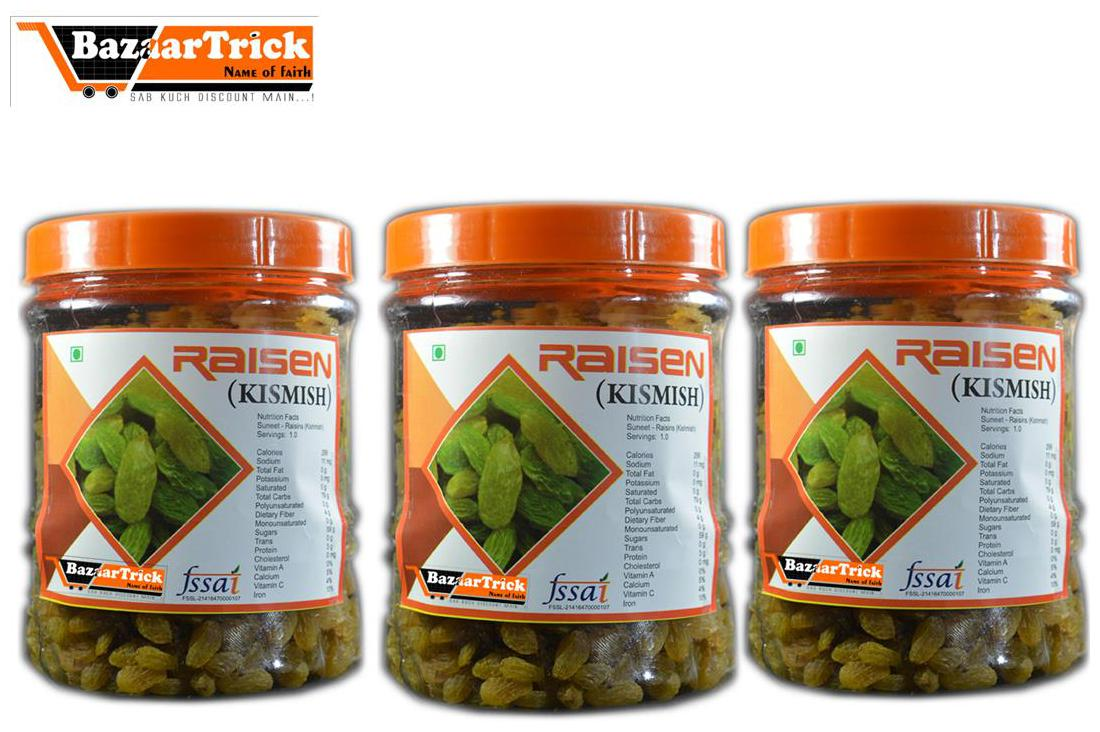JAR: (377, 195, 740, 718), (740, 197, 1095, 701), (15, 203, 369, 705)
